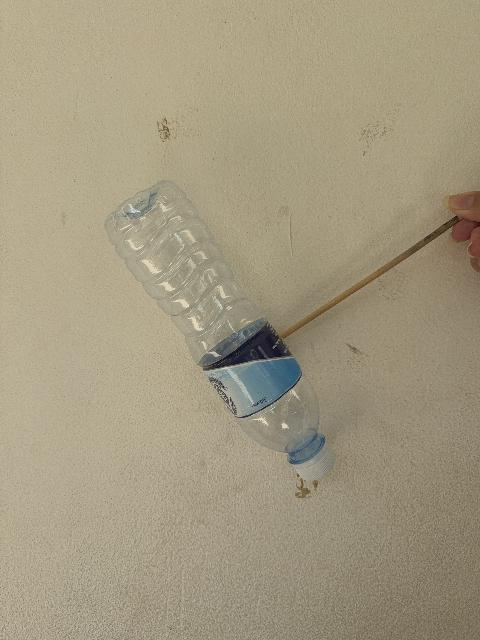bottle: (106, 181, 334, 480)
